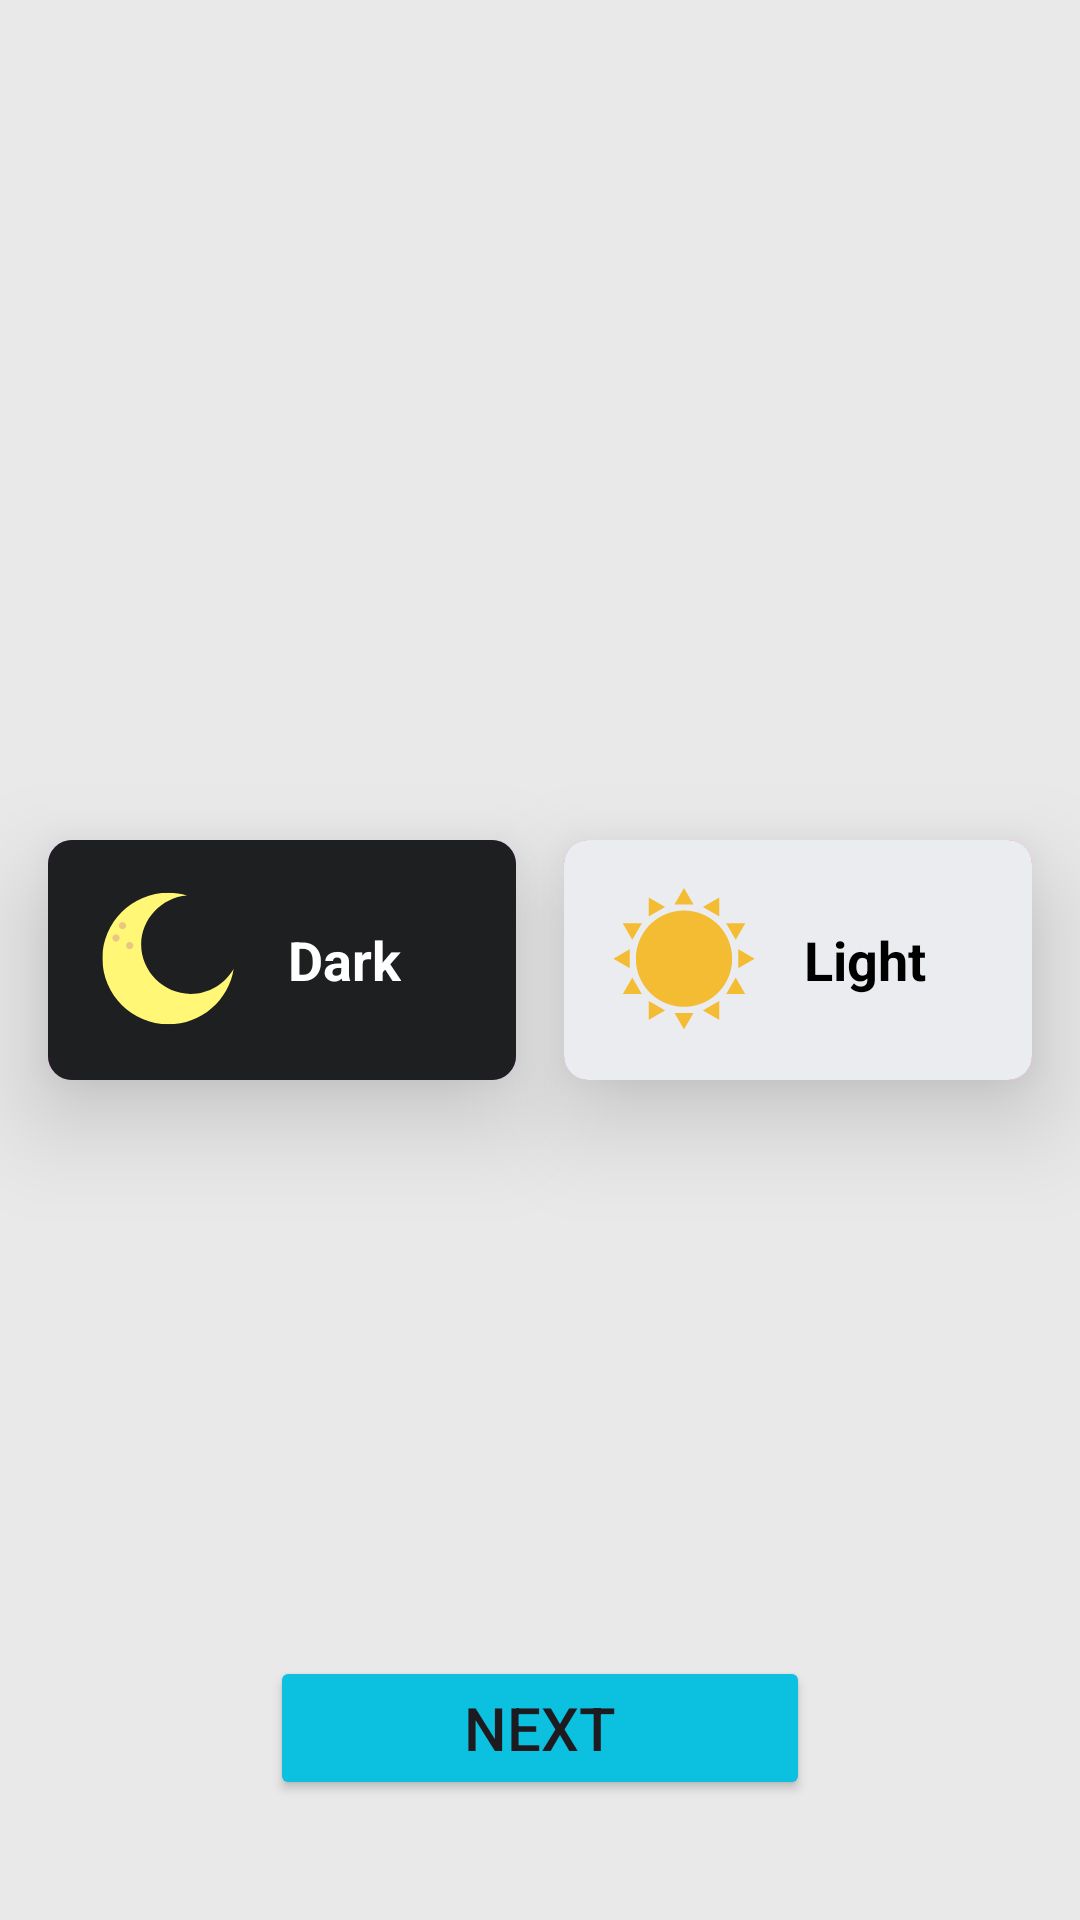

Icon click points for this 1080 x 1920 phone screenshot, format (x,y):
moon: (168,958)
sun: (684,958)
